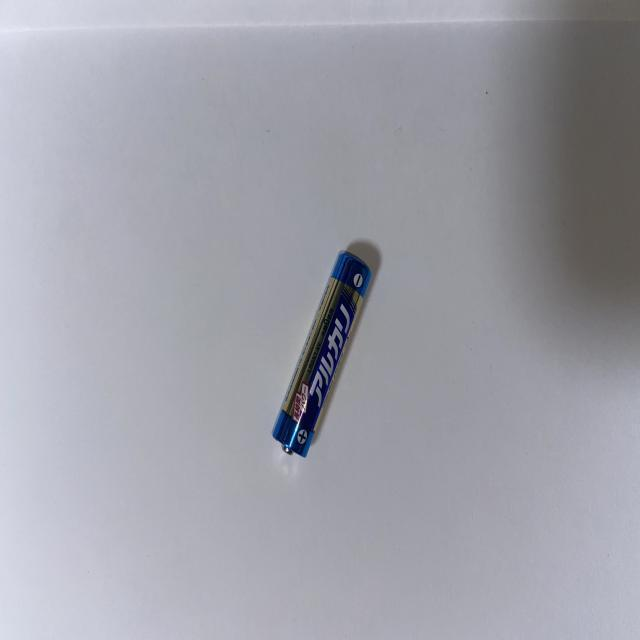Hazard: (270, 248, 372, 461)
